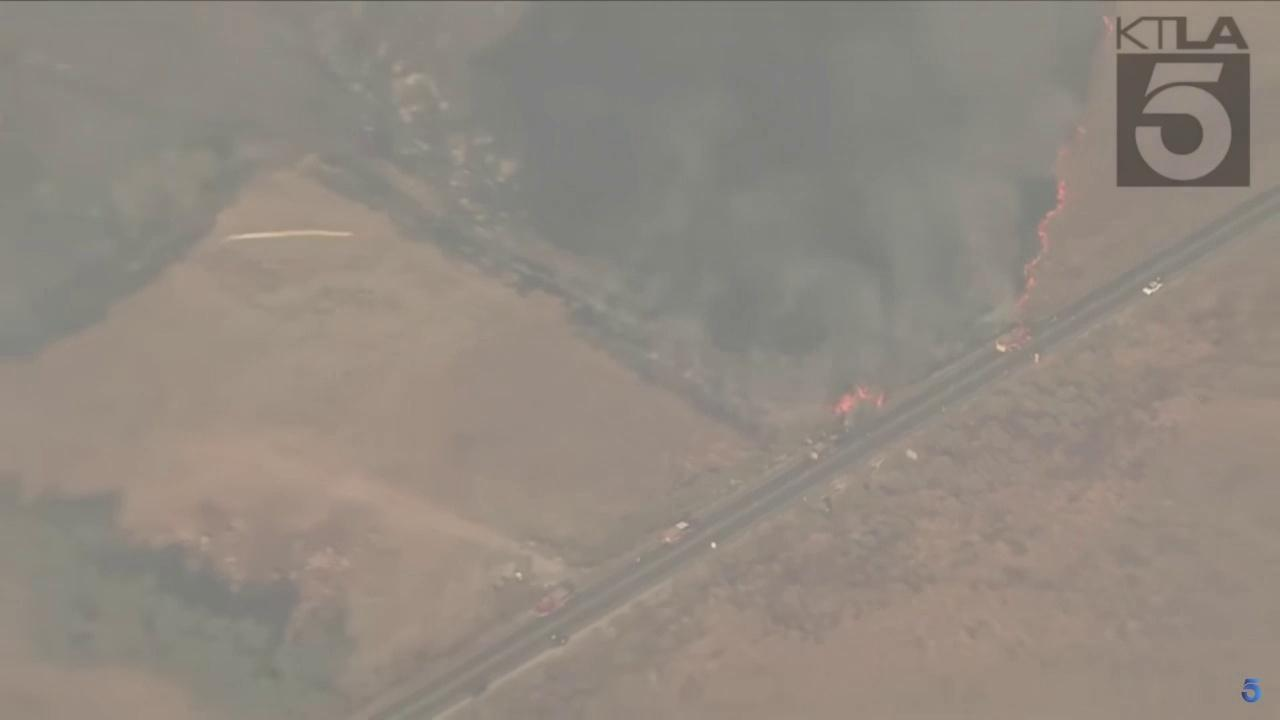fire: (1017, 177, 1067, 308), (832, 383, 887, 418)
smoke: (480, 0, 1109, 399)
